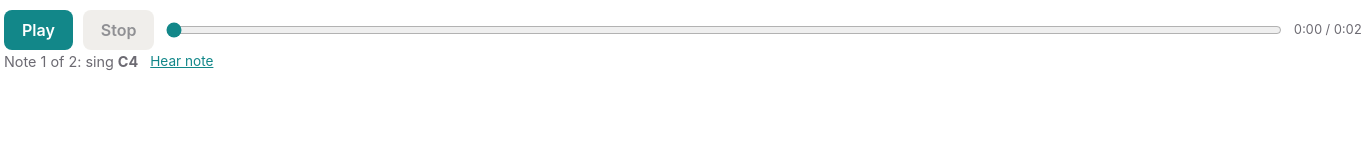
Scenario: Wait for me score › doesn’t count time while paused
Click the button "Play". click: (38, 30)
box: left=4, top=10, right=73, bottom=50
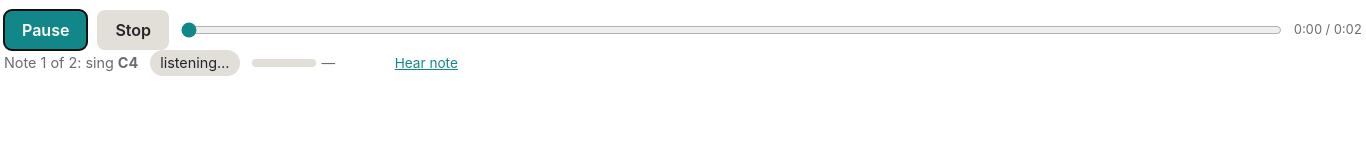
Click the button "Pause". click: (46, 30)
box: left=4, top=10, right=87, bottom=50
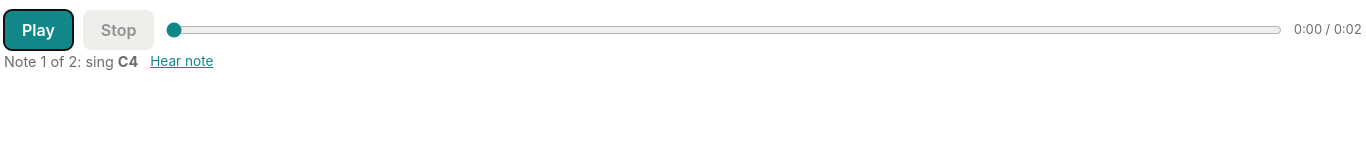
Click the button "Play". click: (38, 30)
box: left=4, top=10, right=73, bottom=50
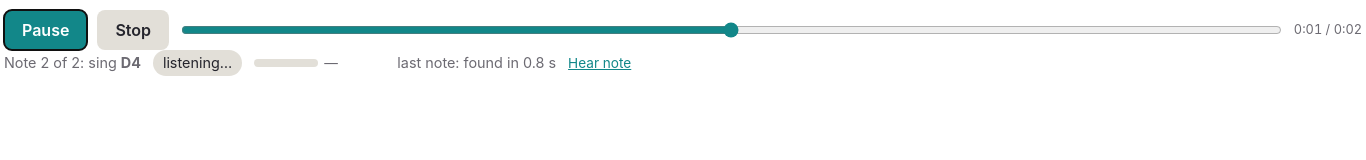
Now the text "last note: found in 0.8 s" is shown, box left=397, top=52, right=556, bottom=74
